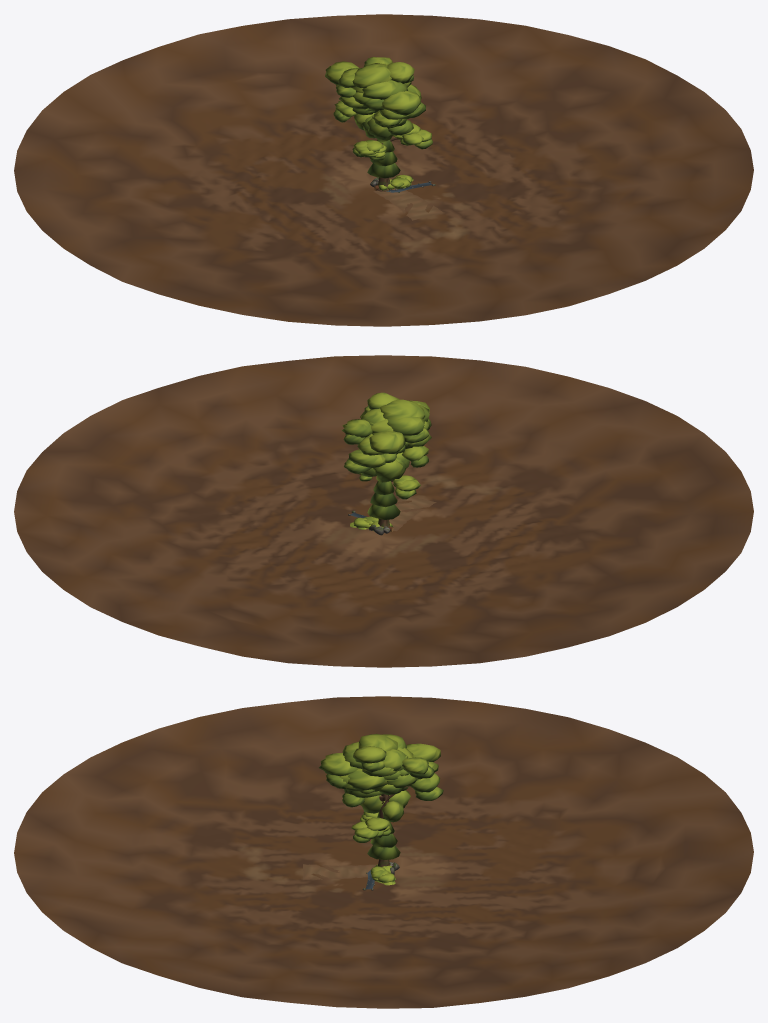
The model's file is forest-kit.glb.
The picture shows the model from 3 angles, top to bottom: view 1: azimuth 30°, elevation 25°; view 2: azimuth 150°, elevation 25°; view 3: azimuth 270°, elevation 25°; orthographic projection.
Visible parts, largest first — view 1: ground, tree-2, tree-3, tree-1, path, conifer, tree-far; view 2: ground, tree-2, tree-1, tree-3, conifer, tree-far, path; view 3: ground, tree-1, tree-2, tree-3, path, tree-far, conifer.
Part boxes in pixels (<box>): ground: <box>14,14,753,326</box>; tree-2: <box>336,57,425,190</box>; tree-3: <box>333,101,413,191</box>; tree-1: <box>325,61,432,191</box>; path: <box>373,188,443,220</box>; conifer: <box>367,138,400,178</box>; tree-far: <box>354,113,393,139</box>; ground: <box>14,355,753,667</box>; tree-2: <box>342,392,431,527</box>; tree-1: <box>344,408,424,526</box>; tree-3: <box>357,436,428,532</box>; conifer: <box>367,476,400,519</box>; tree-far: <box>361,452,409,481</box>; path: <box>389,496,436,531</box>; ground: <box>14,696,753,1008</box>; tree-1: <box>347,743,443,866</box>; tree-2: <box>319,733,434,866</box>; tree-3: <box>338,761,438,821</box>; path: <box>303,864,376,879</box>; tree-far: <box>360,790,410,822</box>; conifer: <box>367,812,400,859</box>.
Bounding box in the file's own units: 84 × 17.12 × 84.
